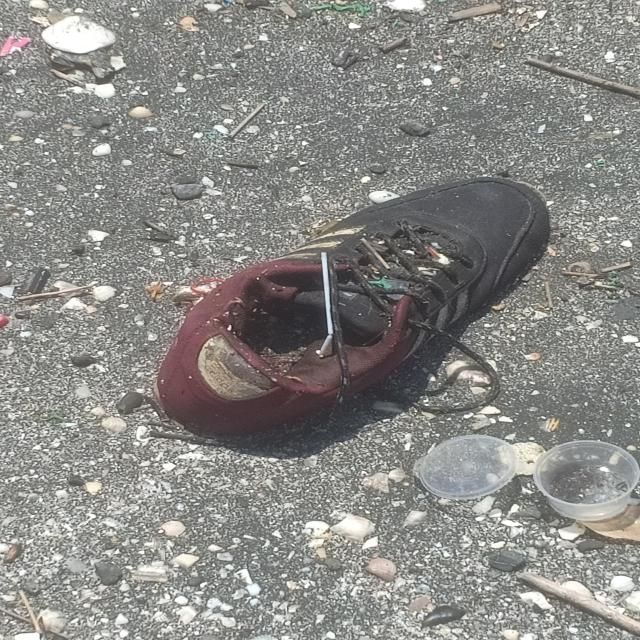plastic_waste: (532, 440, 639, 541), (413, 437, 518, 503)
rubber_waste: (163, 180, 554, 439)
